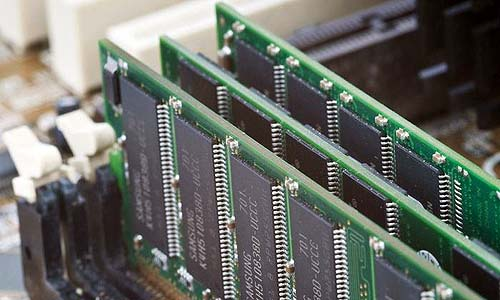ram: (97, 1, 498, 297)
